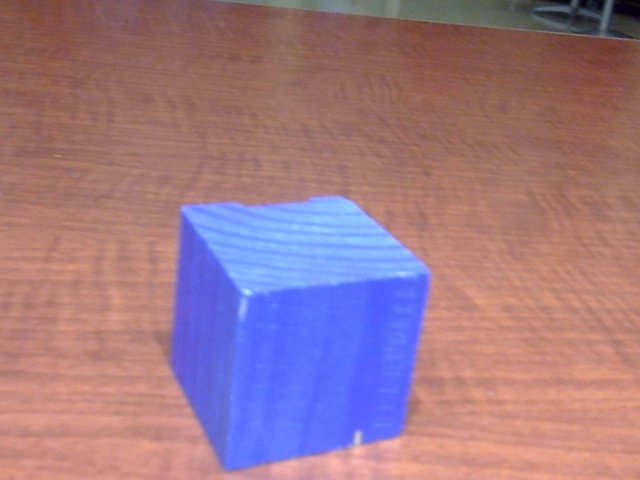BlueBlock: (170, 197, 429, 472)
